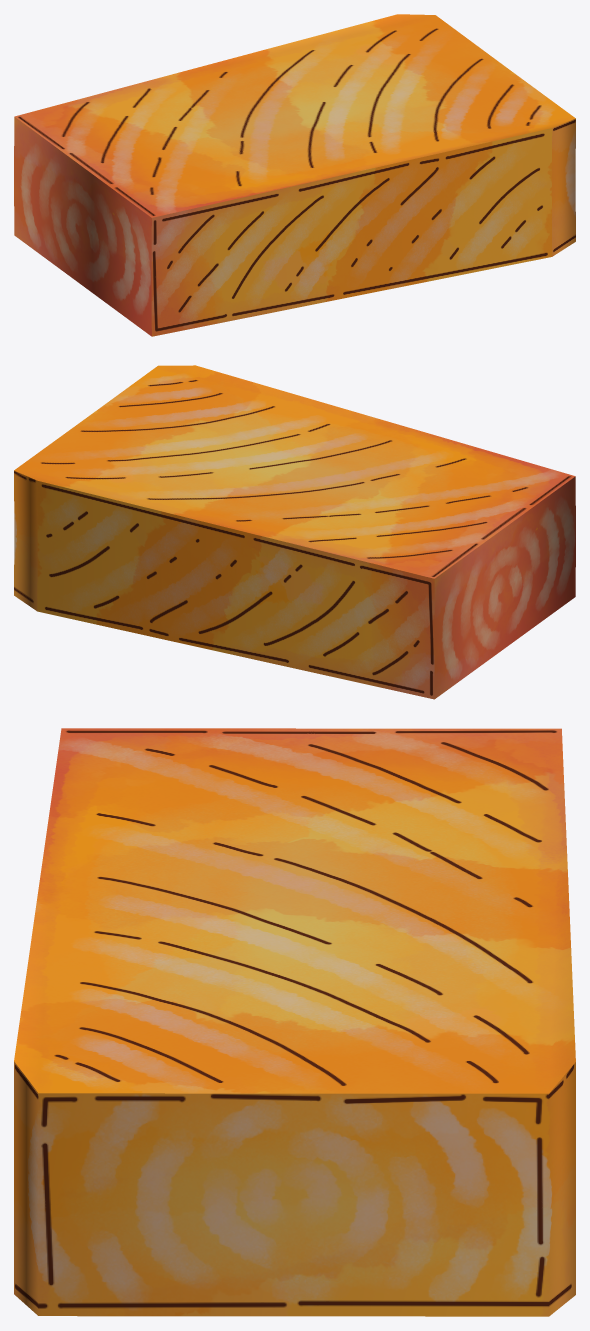
The model's file is salmon thick cut.fbx.
3 views of the same model, one above another, from view 1: azimuth 30°, elevation 25°; view 2: azimuth 150°, elevation 25°; view 3: azimuth 270°, elevation 25° (orthographic). The views are drawn at different scales.
Visible parts, largest first — view 1: salmon_thick_cut; view 2: salmon_thick_cut; view 3: salmon_thick_cut.
Part boxes in pixels (x1,y1,x2,y2): salmon_thick_cut: (14,14,575,336); salmon_thick_cut: (14,365,575,699); salmon_thick_cut: (14,728,575,1316).
Size of the model in its own units: 12.34 by 3.63 by 7.92.
